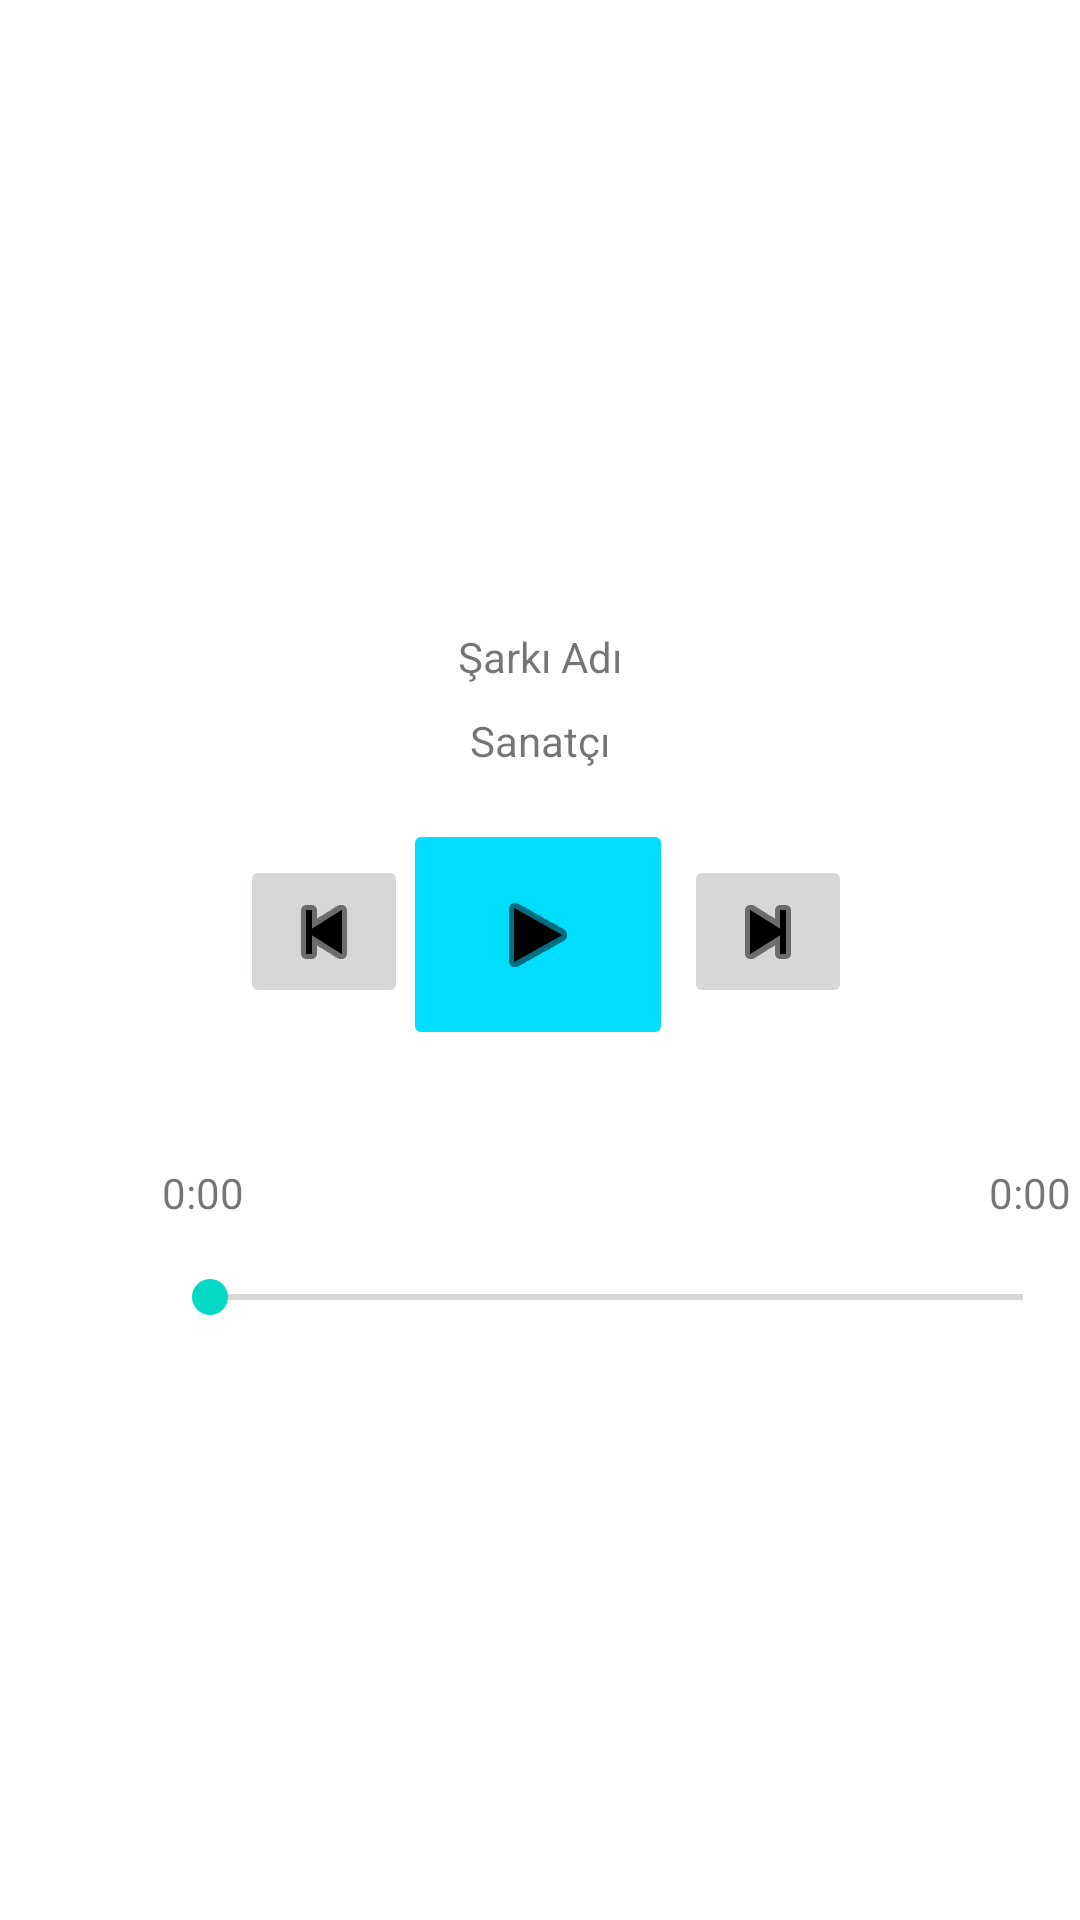

Point at icon controls on the screen. Image size 1080 x 1920, points as [x,y].
next: [768,931]
play: [538,934]
previous: [324,931]
